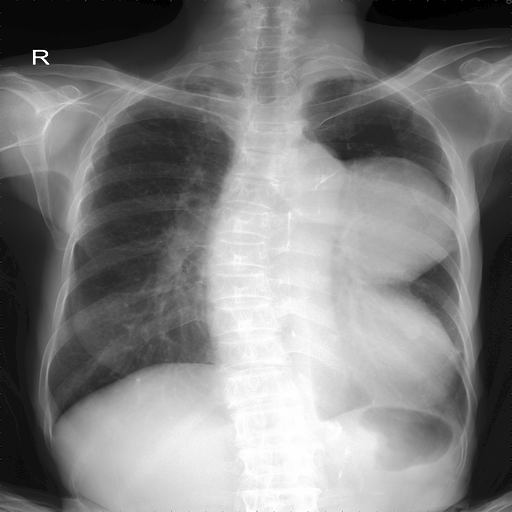Calcification: (155, 71, 232, 96), (298, 66, 378, 83)
Consolidation: (278, 148, 347, 213)
Nodule/Mass: (207, 323, 456, 413)
Other lesion: (201, 155, 293, 410)
Pleural thickening: (317, 153, 460, 285)
Pulmonary fibrosis: (310, 153, 464, 283)
